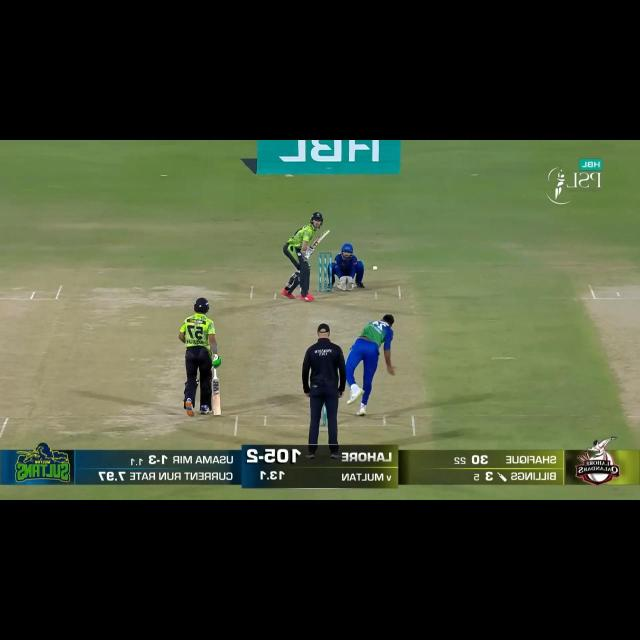bat: (212, 377, 223, 418), (310, 229, 331, 250)
toe: (213, 409, 222, 416), (324, 230, 331, 237)
